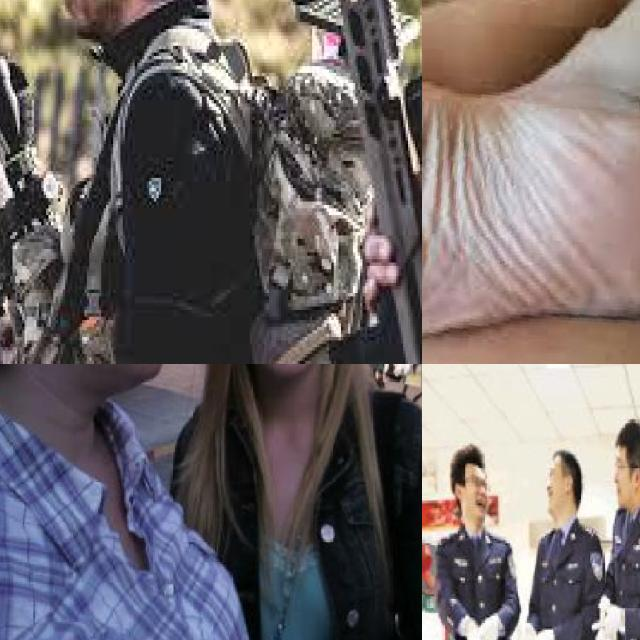Barefoots: (422, 38, 640, 350)
face_nomask: (456, 470, 494, 517), (615, 448, 639, 510), (542, 458, 568, 508)
hand_glove: (596, 598, 620, 634), (477, 616, 499, 640), (516, 617, 534, 640), (531, 625, 554, 640), (462, 629, 482, 640)
head_nohelmet: (453, 440, 489, 474), (613, 418, 640, 451), (548, 448, 578, 467)
person: (162, 364, 422, 640), (0, 364, 229, 640), (428, 435, 537, 640), (525, 446, 608, 640), (587, 412, 640, 640)
